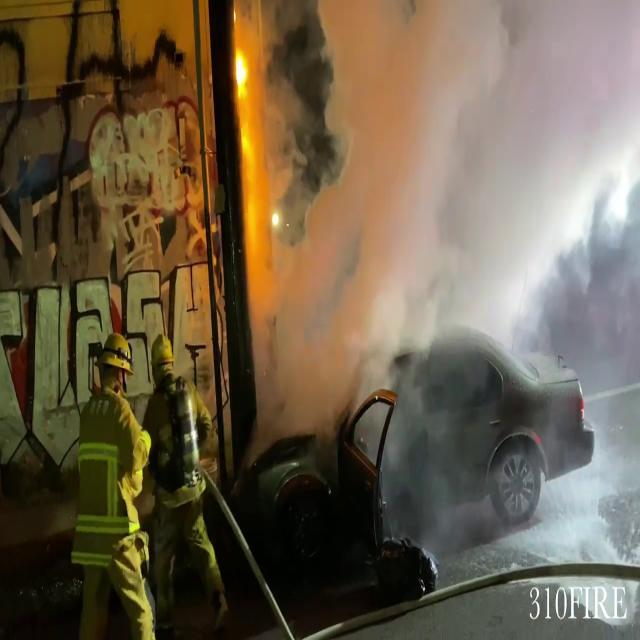Fire: (234, 36, 250, 109)
Smoke: (253, 0, 639, 486)
